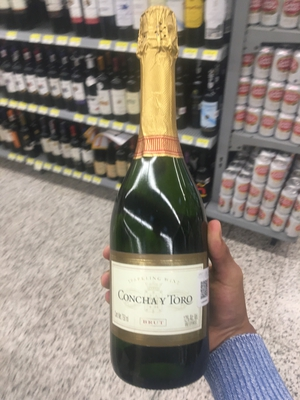brut: (100, 9, 216, 396)
